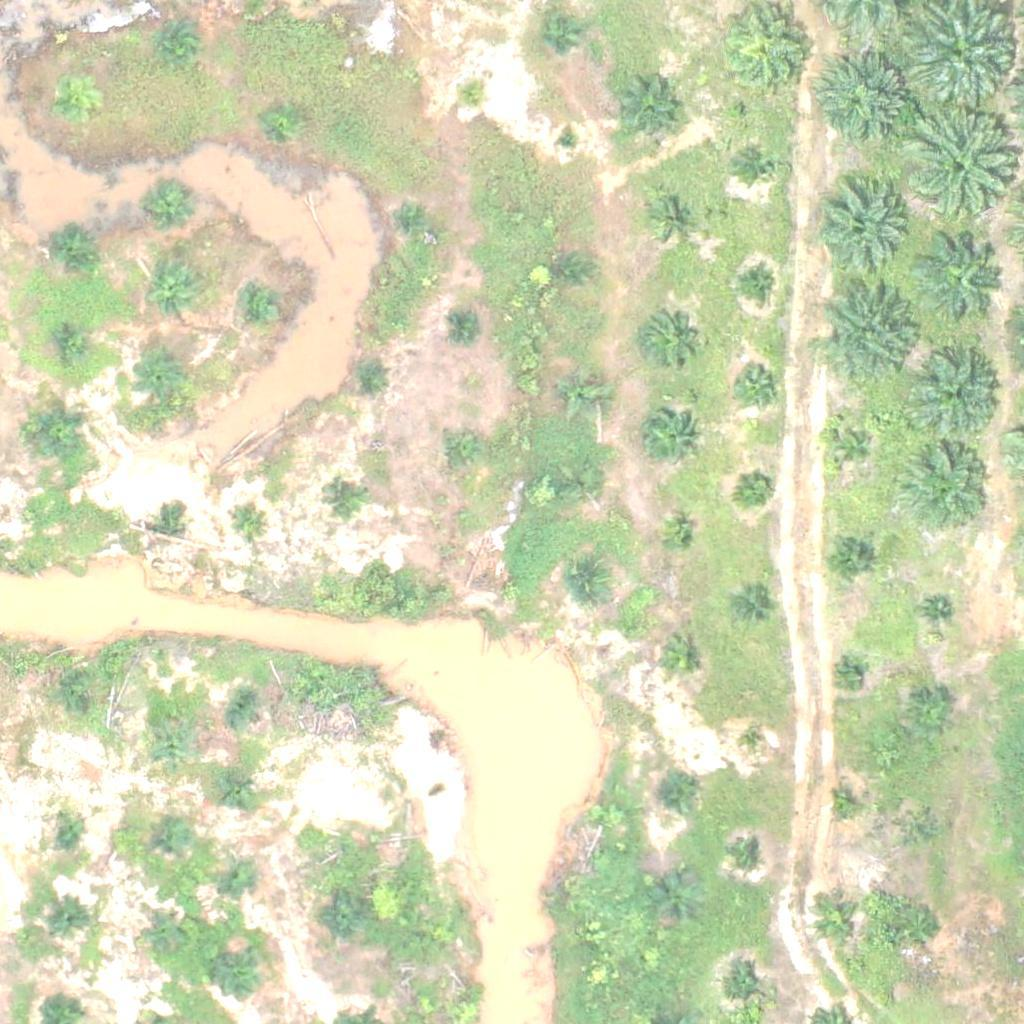Kelapa_Sawit: (895, 109, 1020, 234), (816, 54, 916, 155), (813, 182, 913, 283), (821, 284, 921, 385), (901, 442, 989, 530), (913, 350, 1001, 438), (920, 237, 1008, 325), (613, 81, 676, 144), (640, 408, 702, 471), (31, 403, 93, 465), (49, 81, 99, 132), (144, 182, 194, 233), (897, 902, 947, 953), (643, 311, 693, 362), (810, 896, 860, 947), (656, 635, 706, 686), (559, 368, 609, 419), (217, 946, 267, 996), (42, 221, 92, 271), (149, 266, 199, 316), (135, 352, 185, 402), (718, 967, 768, 1017), (905, 691, 955, 741), (824, 531, 874, 581), (652, 875, 702, 925), (321, 895, 371, 945), (827, 422, 877, 472), (732, 358, 782, 408), (656, 776, 694, 814), (549, 253, 587, 291), (452, 78, 490, 116), (54, 323, 92, 361), (743, 147, 781, 185), (55, 812, 93, 850), (223, 854, 261, 892), (223, 767, 261, 805), (222, 692, 260, 730), (242, 290, 279, 328), (900, 813, 938, 850), (659, 520, 697, 557), (737, 264, 774, 302), (655, 197, 692, 235), (449, 308, 487, 345), (325, 483, 362, 521), (566, 466, 604, 503), (739, 468, 776, 506), (536, 17, 573, 55), (229, 507, 266, 545), (51, 896, 89, 933), (66, 692, 103, 730), (151, 729, 188, 767), (156, 821, 193, 859), (146, 917, 183, 955), (159, 28, 196, 65), (735, 592, 772, 629), (567, 564, 604, 601), (347, 356, 384, 393), (444, 434, 481, 471), (264, 101, 301, 138), (395, 199, 432, 236), (152, 513, 177, 539), (836, 662, 861, 687), (829, 792, 854, 817), (741, 731, 766, 756), (735, 843, 760, 868), (555, 127, 580, 152), (924, 598, 948, 623)
